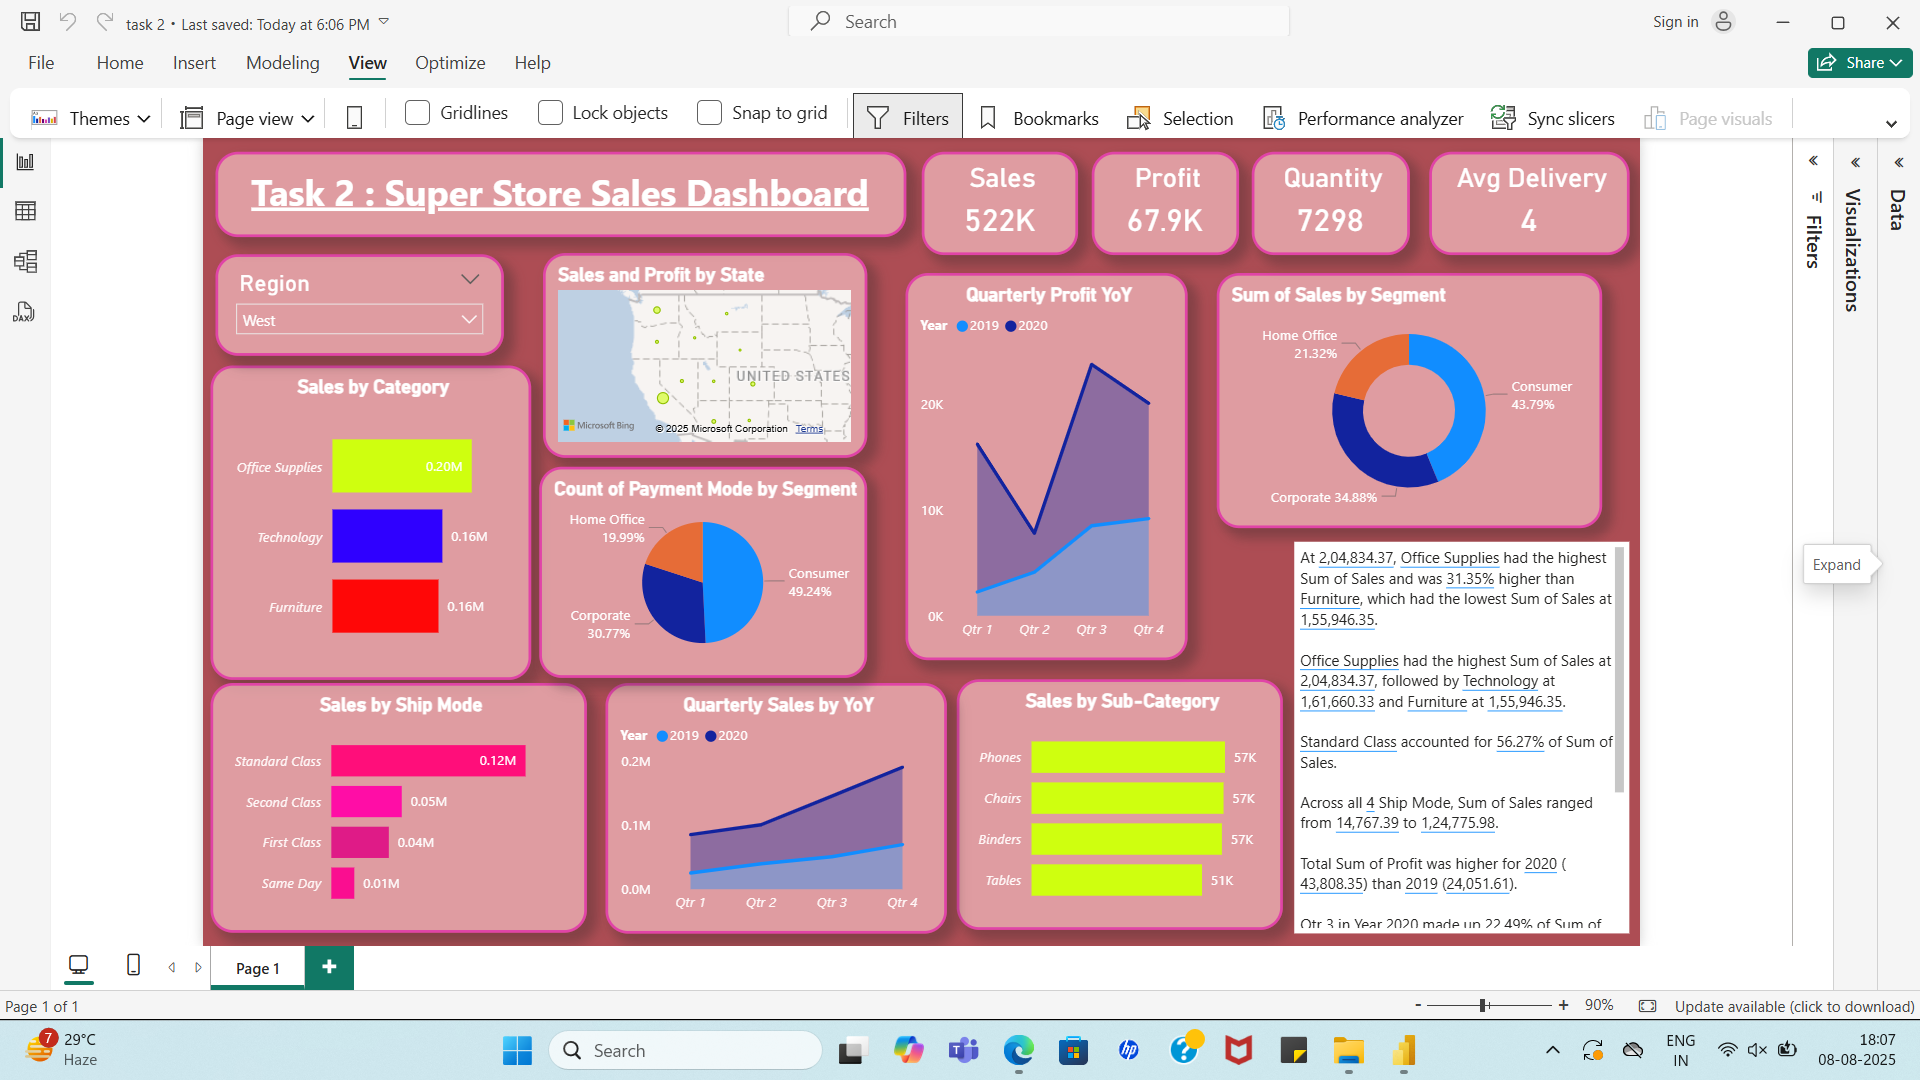

The page's visual inventory and layout, read from the dashboard file:
{"tool":"powerbi","page":{"name":"Page 1","canvas":[1280,720],"ordinal":0},"visuals":[{"type":"clusteredBarChart","title":"Sales by Category","fields":{"Category":["SuperStore_Sales_Dataset.Category"],"Y":["Sum(SuperStore_Sales_Dataset.Sales)"]},"box":[6.9,203.1,285.4,279.9],"z":0},{"type":"clusteredBarChart","title":"Sales by Sub-Category","fields":{"Category":["SuperStore_Sales_Dataset.Sub-Category"],"Y":["Sum(SuperStore_Sales_Dataset.Sales)"]},"box":[671.6,482.4,290.5,223],"z":1000},{"type":"clusteredBarChart","title":"Sales by Ship Mode","fields":{"Y":["Sum(SuperStore_Sales_Dataset.Sales)"],"Category":["SuperStore_Sales_Dataset.Ship Mode"]},"box":[6.9,485.8,334.8,222.3],"z":2000},{"type":"stackedAreaChart","title":"Quarterly Sales by YoY","fields":{"Y":["Sum(SuperStore_Sales_Dataset.Sales)"],"Category":["SuperStore_Sales_Dataset.Order Date.Variation.Date Hierarchy.Quarter"],"Series":["SuperStore_Sales_Dataset.Order Date.Variation.Date Hierarchy.Year"]},"box":[358.1,485.1,304.1,223],"z":3000},{"type":"stackedAreaChart","title":"Quarterly Profit YoY","fields":{"Category":["SuperStore_Sales_Dataset.Order Date.Variation.Date Hierarchy.Quarter"],"Series":["SuperStore_Sales_Dataset.Order Date.Variation.Date Hierarchy.Year"],"Y":["Sum(SuperStore_Sales_Dataset.Profit)"]},"box":[625.7,120.3,251.4,344.6],"z":4000},{"type":"map","title":"Sales and Profit by State","fields":{"Category":["SuperStore_Sales_Dataset.State"],"Size":["Sum(SuperStore_Sales_Dataset.Sales)"]},"box":[302.7,102.7,289.2,182.4],"z":5000},{"type":"donutChart","fields":{"Category":["SuperStore_Sales_Dataset.Segment"],"Y":["Sum(SuperStore_Sales_Dataset.Sales)"]},"box":[902.7,120.3,343.2,227],"z":6000},{"type":"pieChart","fields":{"Category":["SuperStore_Sales_Dataset.Segment"],"Y":["CountNonNull(SuperStore_Sales_Dataset.Payment Mode)"]},"box":[300,293.2,291.9,187.8],"z":7000},{"type":"slicer","fields":{"Values":["SuperStore_Sales_Dataset.Region"]},"box":[10.8,104.1,256.8,90.5],"z":8000},{"type":"textbox","box":[10.8,12.2,614.9,75.7],"z":9000},{"type":"card","title":"Sales","fields":{"Values":["Sum(SuperStore_Sales_Dataset.Sales)"]},"box":[640.5,12.2,139.2,91.9],"z":10000},{"type":"card","title":"Profit","fields":{"Values":["Sum(SuperStore_Sales_Dataset.Profit)"]},"box":[791.9,12.2,131.1,91.9],"z":11000},{"type":"card","title":"Quantity","fields":{"Values":["Sum(SuperStore_Sales_Dataset.Quantity)"]},"box":[933.8,12.2,140.5,91.9],"z":12000},{"type":"card","title":"Avg Delivery","fields":{"Values":["Avg(SuperStore_Sales_Dataset.AvgDeliviry)"]},"box":[1091.9,12.2,178.4,91.9],"z":13000},{"type":"textbox","box":[971.6,359.5,298.6,348.6],"z":14000}]}

Visuals, with their boxes on the page's 1280x720 design canvas (x1, y1, x2, y2). These are canvas units, not pixel positions in the 1920x1080 screenshot, which may show the page scaled, cropped or inside an application window:
"Sales by Category" clusteredBarChart: (7, 203, 292, 483)
"Sales by Sub-Category" clusteredBarChart: (672, 482, 962, 705)
"Sales by Ship Mode" clusteredBarChart: (7, 486, 342, 708)
"Quarterly Sales by YoY" stackedAreaChart: (358, 485, 662, 708)
"Quarterly Profit YoY" stackedAreaChart: (626, 120, 877, 465)
"Sales and Profit by State" map: (303, 103, 592, 285)
donutChart - SuperStore_Sales_Dataset.Segment x Sum(SuperStore_Sales_Dataset.Sales): (903, 120, 1246, 347)
pieChart - SuperStore_Sales_Dataset.Segment x CountNonNull(SuperStore_Sales_Dataset.Payment Mode): (300, 293, 592, 481)
slicer - SuperStore_Sales_Dataset.Region: (11, 104, 268, 195)
textbox: (11, 12, 626, 88)
"Sales" card: (640, 12, 780, 104)
"Profit" card: (792, 12, 923, 104)
"Quantity" card: (934, 12, 1074, 104)
"Avg Delivery" card: (1092, 12, 1270, 104)
textbox: (972, 360, 1270, 708)
